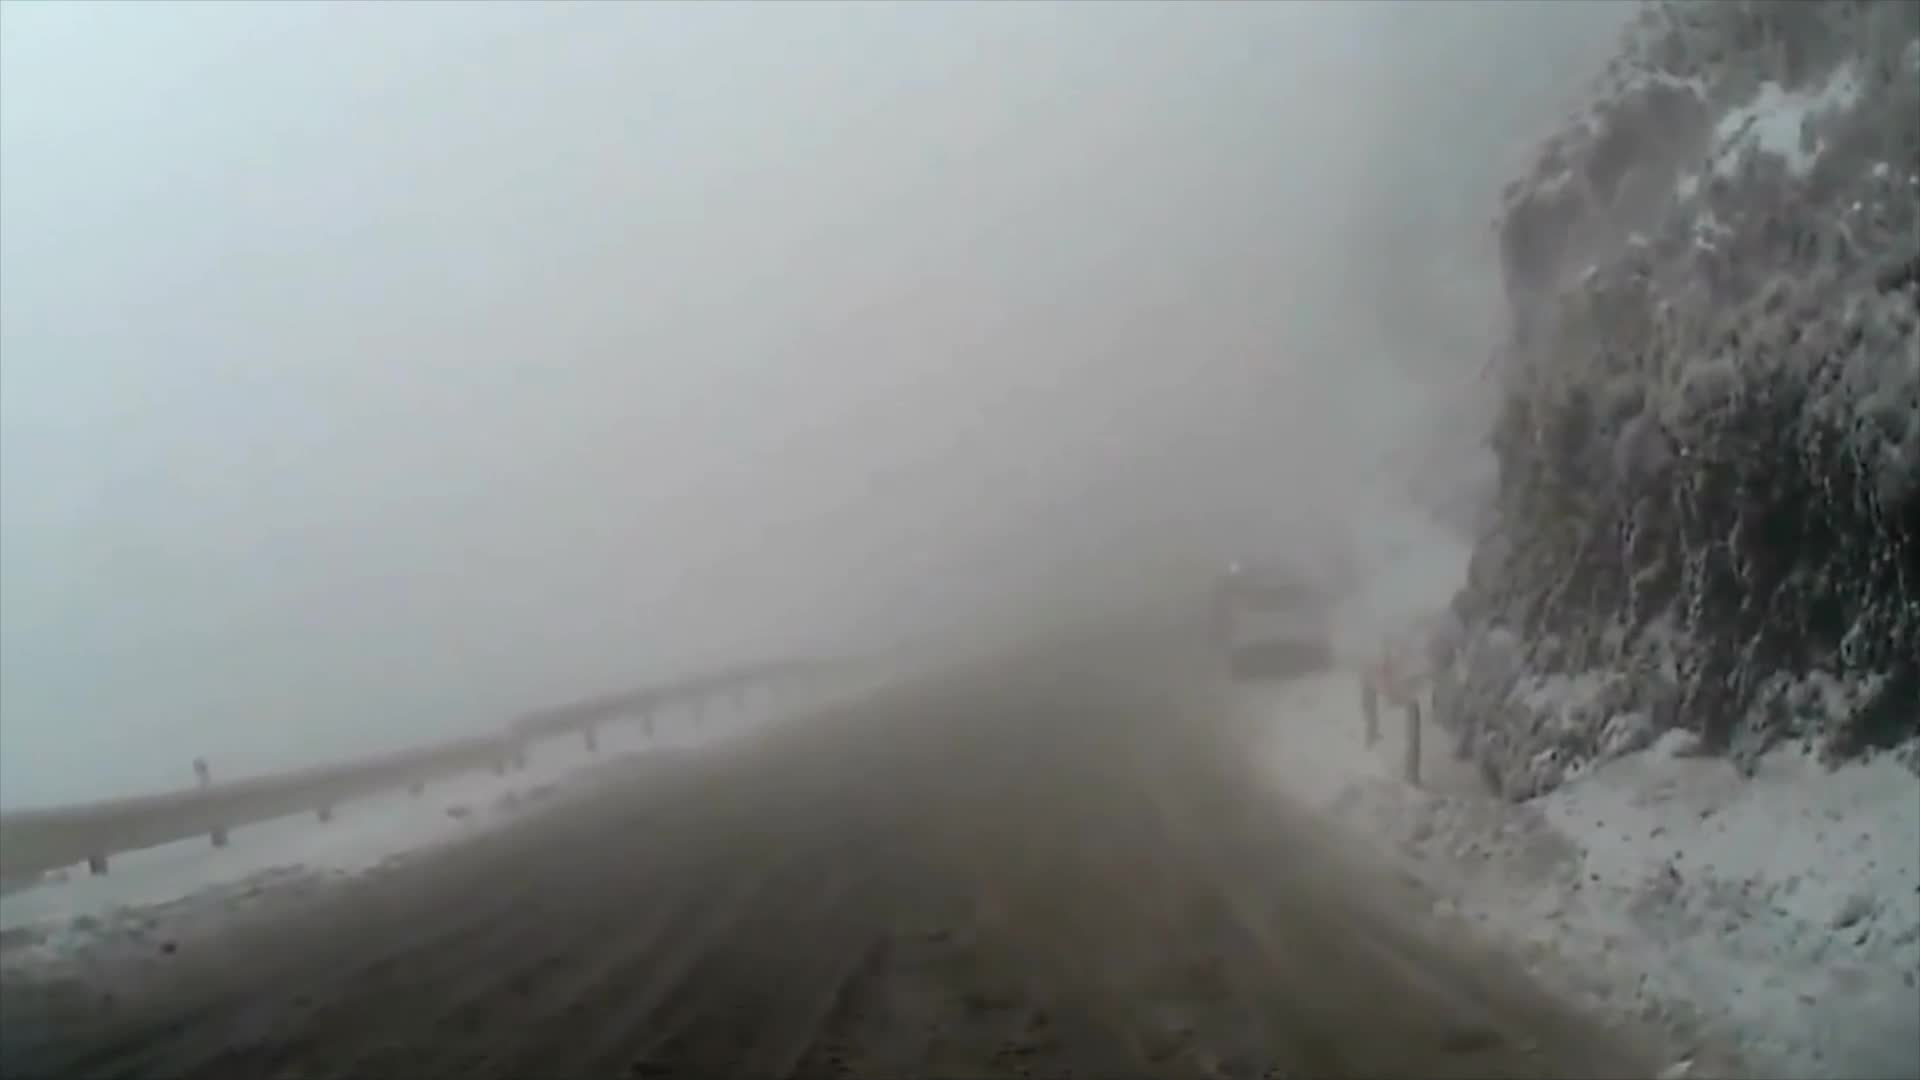vehicle: (1217, 571, 1336, 678)
